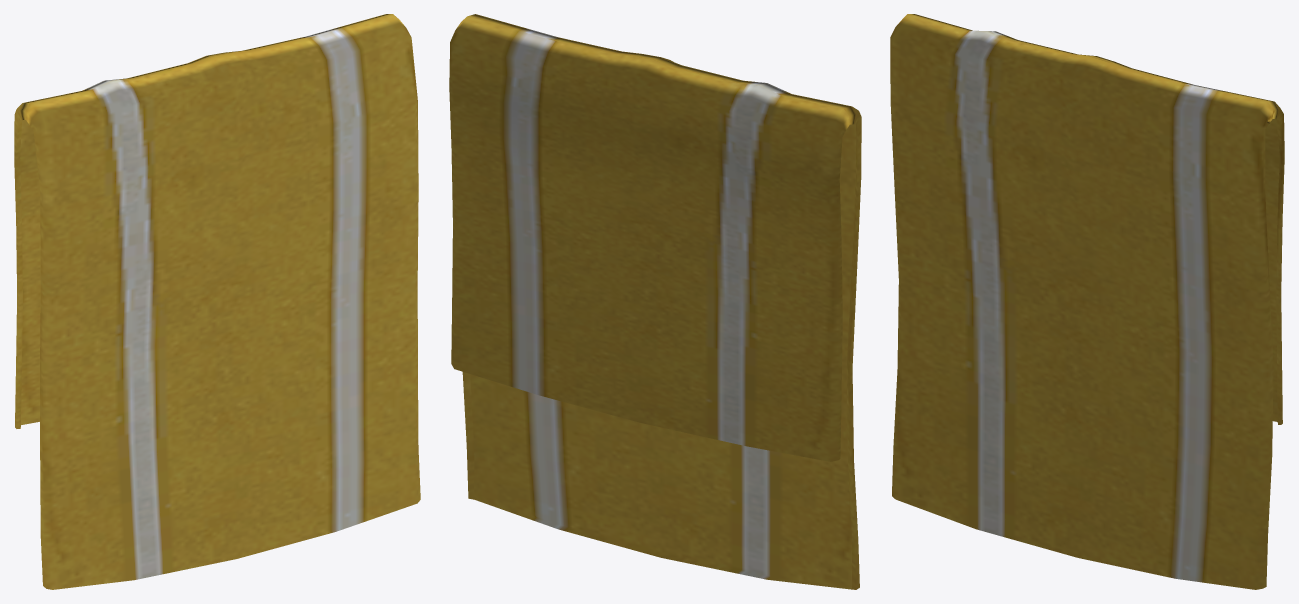
File: fxanim_gp_towel_yellow_mod_lod0.glb
3 renders of one model, left to right at view 1: azimuth 30°, elevation 25°; view 2: azimuth 150°, elevation 25°; view 3: azimuth 330°, elevation 25°, orthographic. The views are drawn at different scales.
Parts seen in each view (by area): view 1: surf0; view 2: surf0; view 3: surf0.
Part boxes in pixels (x1,y1,x2,y2): surf0: (14, 14, 420, 589); surf0: (449, 14, 861, 589); surf0: (890, 14, 1284, 589).
Bounding box in the file's own units: 24.1 × 29.66 × 3.84.
